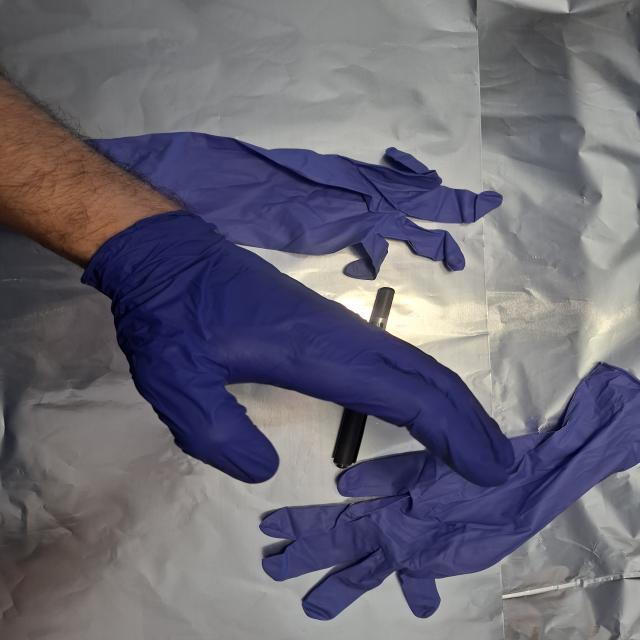glove_on: (91, 210, 519, 490)
